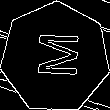M_W: (30, 33, 81, 82)
